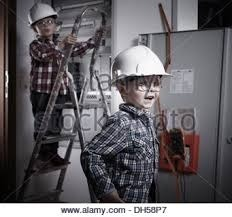helmet: (109, 43, 172, 87), (26, 1, 60, 29)
person with partial safety: (83, 42, 175, 202), (24, 1, 79, 170)
